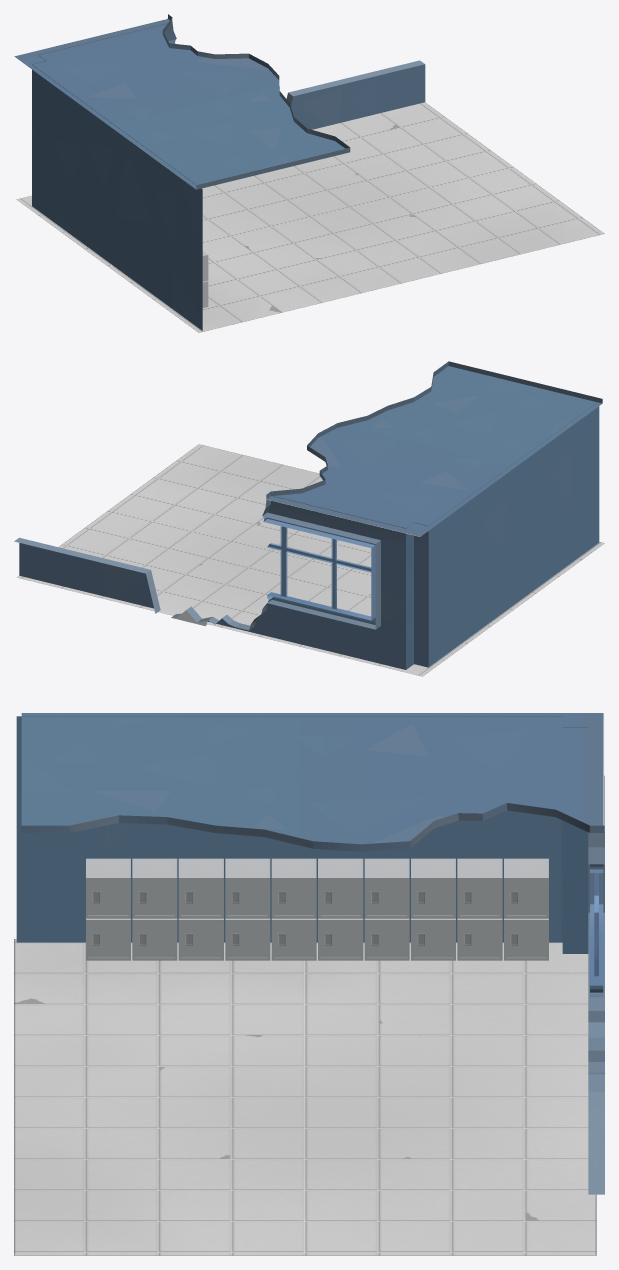
Rendered from Classroom.glb.
The picture shows the model from 3 angles, top to bottom: view 1: azimuth 30°, elevation 25°; view 2: azimuth 150°, elevation 25°; view 3: azimuth 270°, elevation 25°; orthographic projection. The views are drawn at different scales.
Visible parts, largest first — view 1: floor, wall, sailing; view 2: wall, floor, sailing, window; view 3: floor, sailing, locker, wall, window.
Part boxes in pixels (x1=…): floor: x1=16, y1=102, x2=604, y2=332; wall: x1=32, y1=18, x2=425, y2=330; sailing: x1=14, y1=14, x2=350, y2=189; wall: x1=14, y1=402, x2=599, y2=669; floor: x1=17, y1=444, x2=604, y2=676; sailing: x1=266, y1=361, x2=602, y2=536; window: x1=263, y1=516, x2=375, y2=624; floor: x1=14, y1=939, x2=596, y2=1255; sailing: x1=21, y1=713, x2=604, y2=851; locker: x1=86, y1=858, x2=548, y2=960; wall: x1=16, y1=716, x2=604, y2=1194; window: x1=590, y1=864, x2=603, y2=997.
Bounding box in the file's own units: 9 × 3.09 × 7.1.
5 materials, 5 textured.
